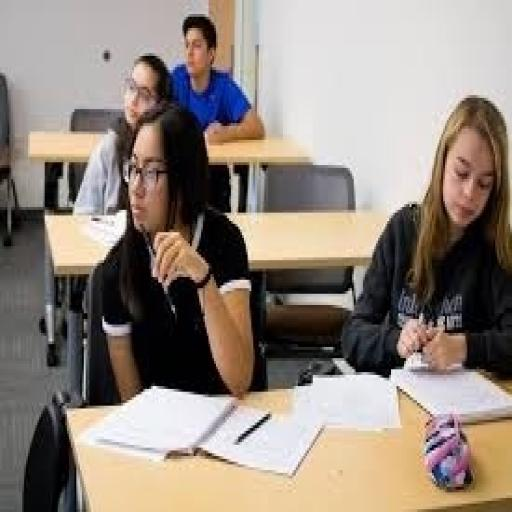sitting: (339, 92, 510, 378), (97, 101, 257, 400), (166, 11, 266, 210), (71, 50, 175, 218)
